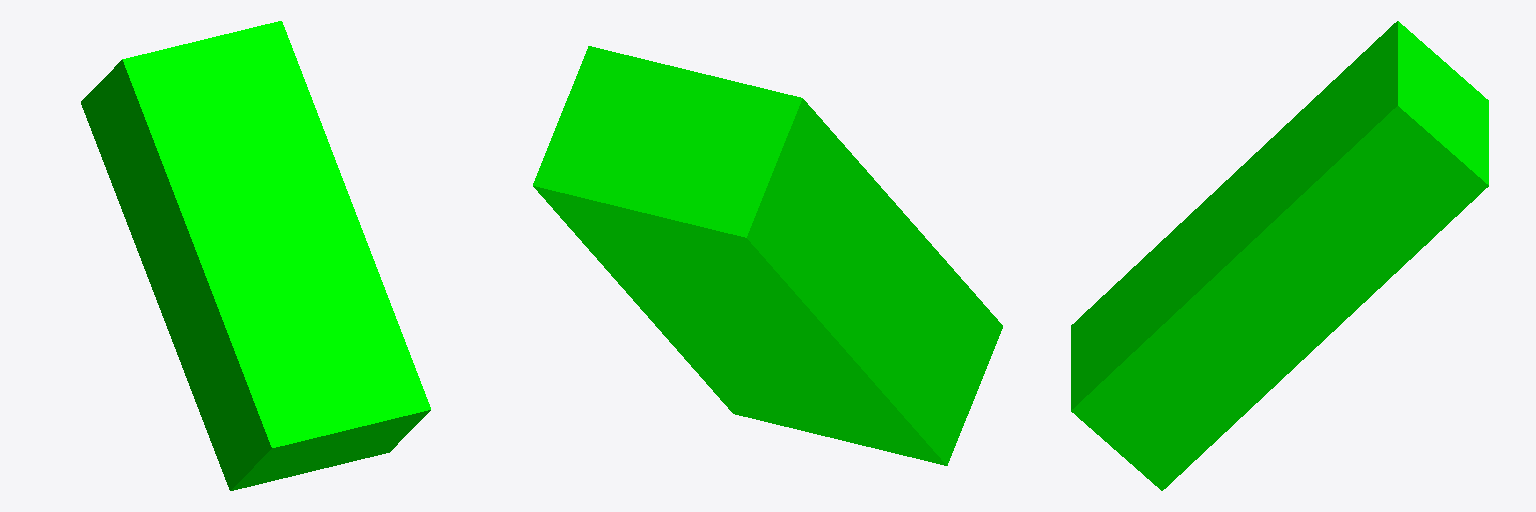
The robot description file, URDF, robot "roi_box":
<?xml version="1.0"?>

<robot name="roi_box">
  
  <material name="li">
    <color rgba="0.0 1.0 0.0 0.5"/>
  </material>

  <link name="base"/>

  <link name="roi_box">
    <!-- <collision>
       <origin xyz="0 0 .0" rpy="0 0 0"/>
      <geometry>
        <box size="1.2 0.1 1.8"/>
      </geometry>
    </collision> -->
    <visual>
      <origin xyz="0 0 .0" rpy="0 0 0"/>
      <geometry>
        <box size="0.3 0.19 0.7"/>
      </geometry>
      <material name="li"/>
    </visual>
  </link>

  <joint name="jroi_box" type="fixed">
    <origin rpy="-0.77 0 0" xyz="0 0.0 0.8"/>
    <parent link="base"/>
    <child link="roi_box"/>
  </joint>
</robot>

--- Render facts (derived) ---
Views: 3 orthographic renders of the robot side by side, from view 1: azimuth 30°, elevation 25°; view 2: azimuth 150°, elevation 25°; view 3: azimuth 270°, elevation 25°.
Model roi_box with 2 links and 1 joints (1 fixed), rooted at base, posed all joints at 0.
Links seen in each view (by area): view 1: roi_box; view 2: roi_box; view 3: roi_box.
Boxes of the visible links, x1=… form: roi_box: x1=81, y1=21, x2=430, y2=490; roi_box: x1=533, y1=46, x2=1002, y2=465; roi_box: x1=1071, y1=21, x2=1488, y2=490.
Bounding box of the posed robot: 0.3 × 0.6237 × 0.6348 m (x, y, z).
Geometry: primitives only (box / cylinder / sphere), no mesh files.
